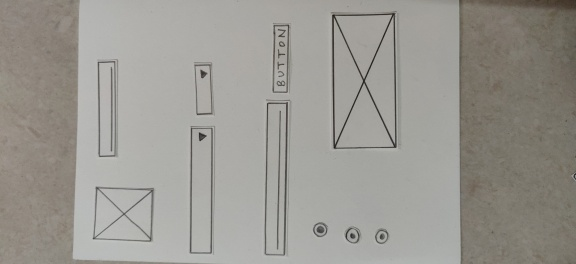button: (272, 24, 289, 93)
dropdown: (189, 126, 214, 255), (193, 59, 213, 117)
img: (329, 12, 399, 151), (91, 184, 155, 246)
radio: (342, 223, 362, 246), (309, 220, 330, 240), (373, 226, 392, 246)
text: (263, 100, 287, 258), (95, 60, 119, 159)
